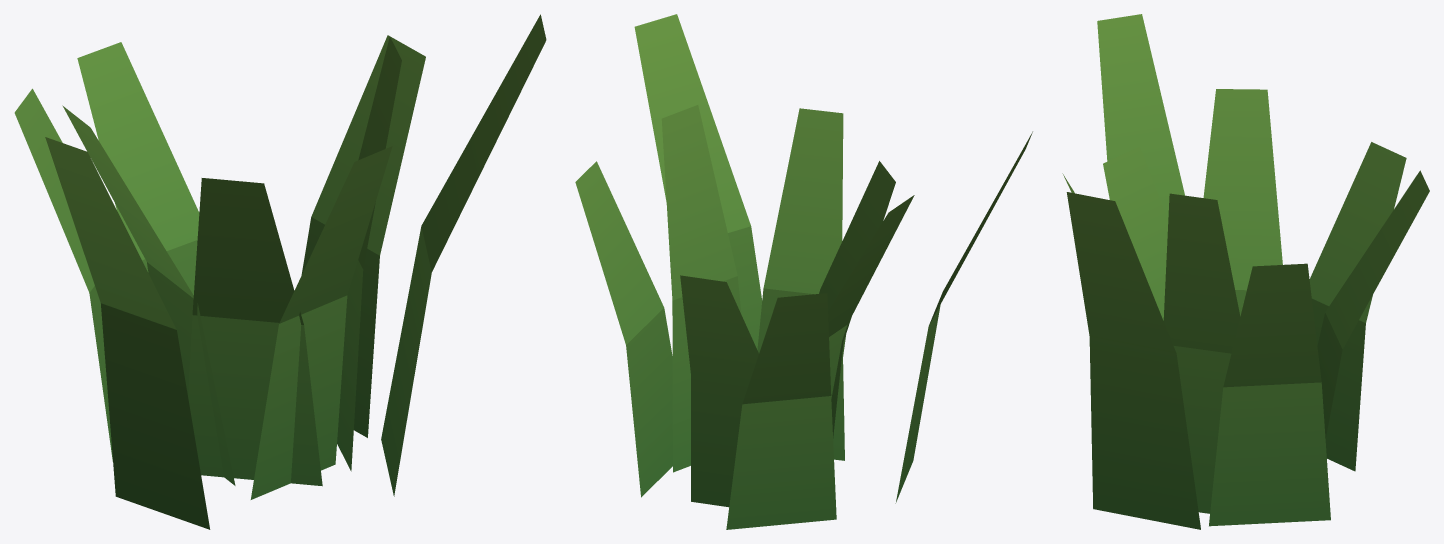
Rendered from herbe_01.glb.
3 renders of one model, left to right at view 1: azimuth 30°, elevation 25°; view 2: azimuth 150°, elevation 25°; view 3: azimuth 270°, elevation 25°, orthographic. The views are drawn at different scales.
Visible parts, largest first — view 1: herbe_01; view 2: herbe_01; view 3: herbe_01.
Boxes of the visible parts, <box> form: herbe_01: <box>14,14,546,529</box>; herbe_01: <box>575,14,1032,529</box>; herbe_01: <box>1062,14,1429,529</box>.
Size of the model in its own units: 0.3165 by 0.274 by 0.2437.
